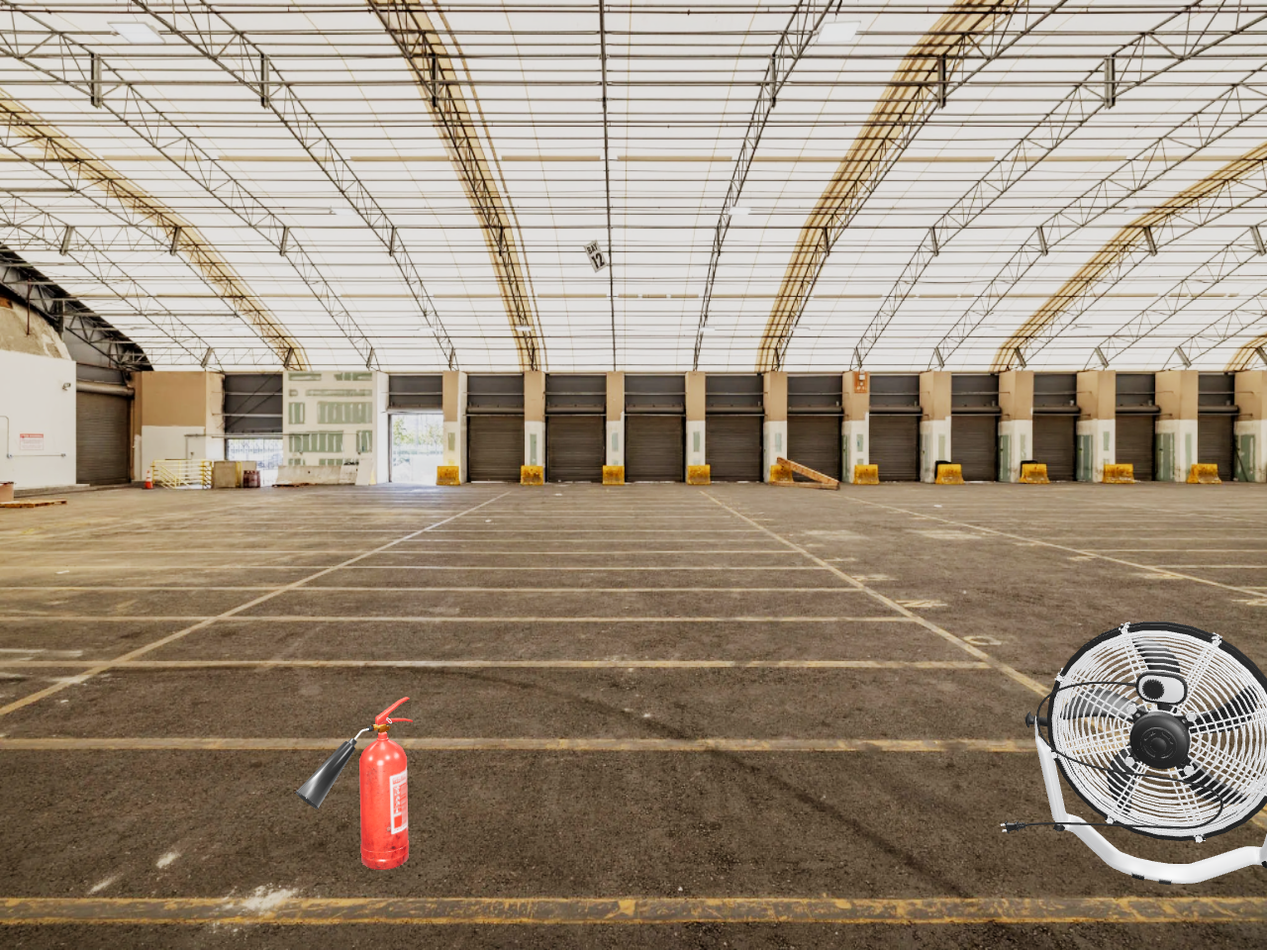FanSanati: (1000, 621, 1267, 885)
KapsoleAtashNeshani: (295, 697, 413, 870)
